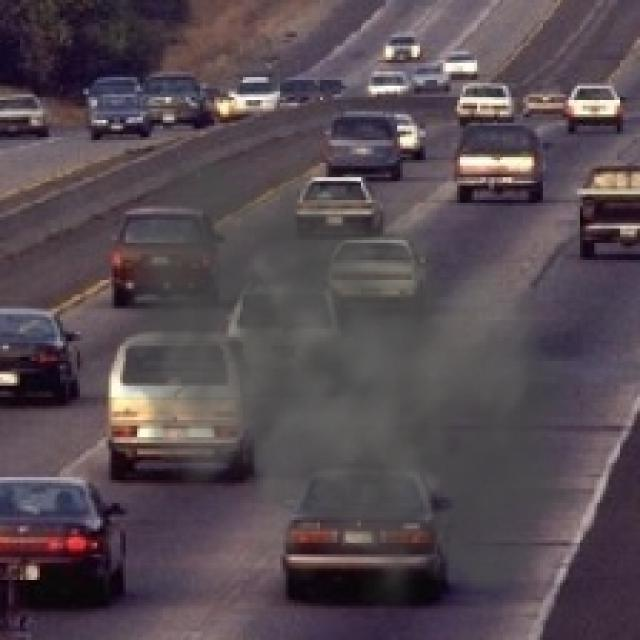smoke: (69, 117, 620, 632)
